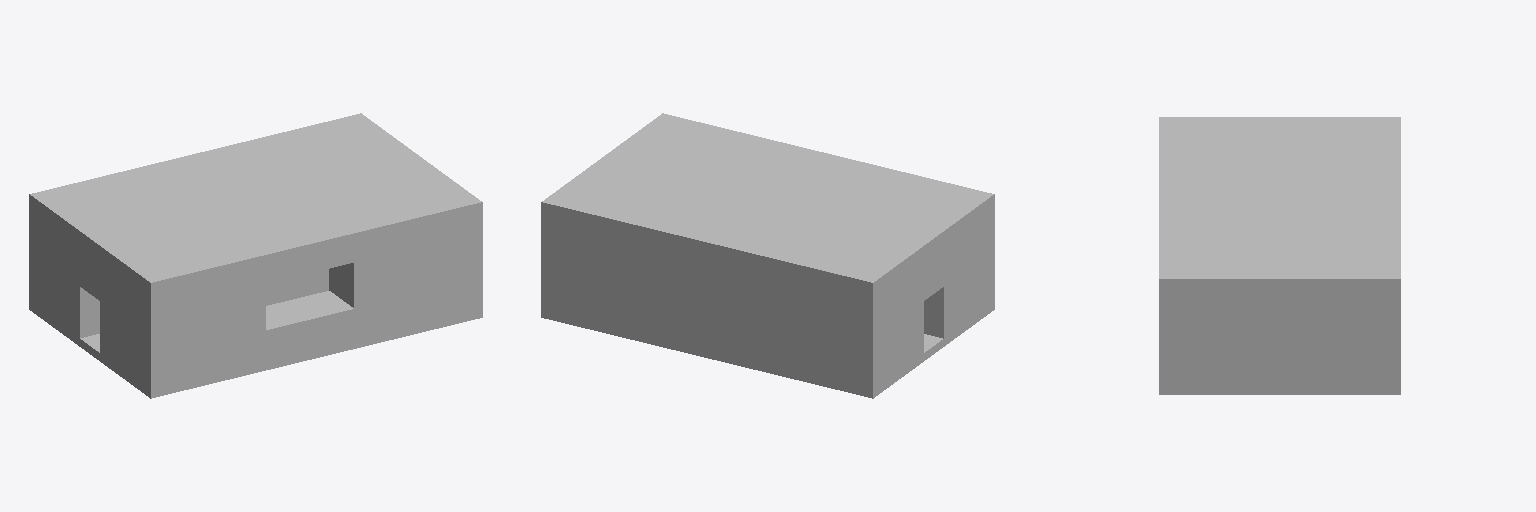
Rendered from house51.obj.
3 renders of one model, left to right at view 1: azimuth 30°, elevation 25°; view 2: azimuth 150°, elevation 25°; view 3: azimuth 270°, elevation 25°, orthographic.
Parts seen in each view (by area): view 1: 立方体.076; view 2: 立方体.076; view 3: 立方体.076.
Part boxes in pixels (x1,y1,x2,y2): 立方体.076: (29, 113, 482, 398); 立方体.076: (541, 113, 994, 398); 立方体.076: (1159, 117, 1400, 394).
Bounding box in the file's own units: 60 × 20 × 38.